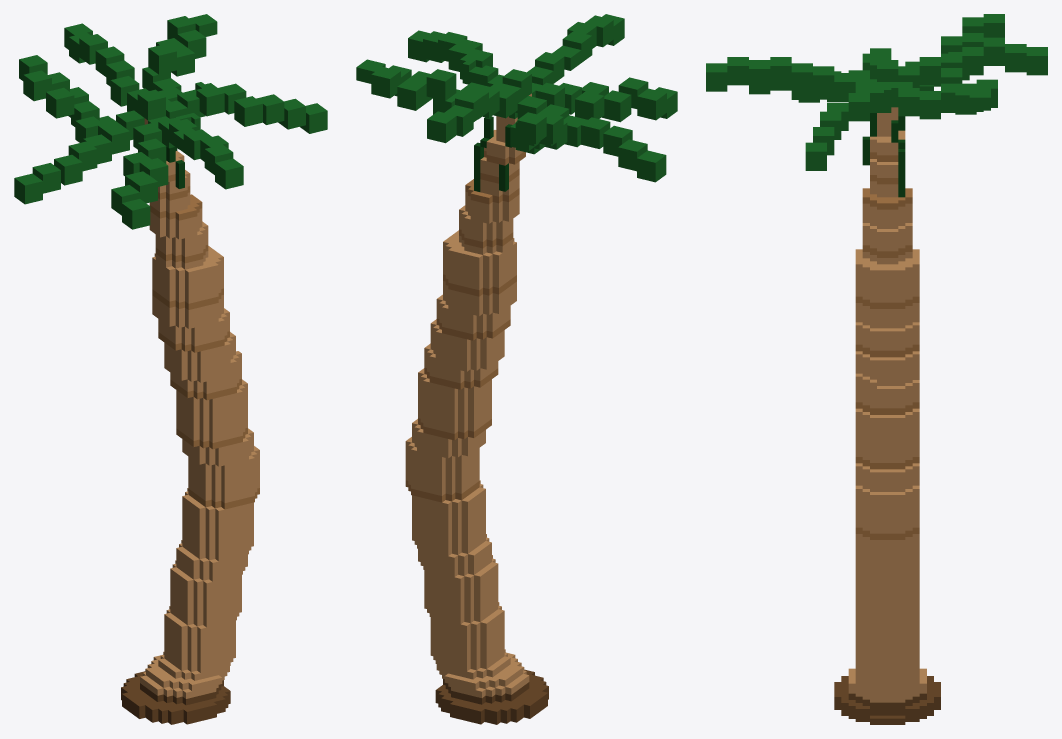
The model's file is 2_3 coco.vox.obj.
The picture shows the model from 3 angles, left to right: view 1: azimuth 30°, elevation 25°; view 2: azimuth 150°, elevation 25°; view 3: azimuth 270°, elevation 25°; orthographic projection. The views are drawn at different scales.
Bounding box in the file's own units: 4.5 × 10 × 4.8.
Materials: 1 (1 with a texture image).
